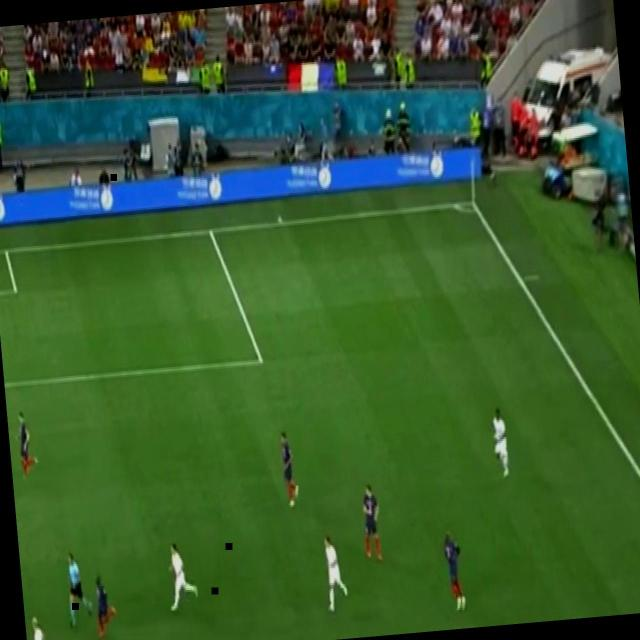player-white: (164, 540, 200, 612), (62, 548, 94, 628), (321, 534, 350, 614), (441, 529, 467, 613), (360, 482, 384, 564), (12, 410, 40, 480), (92, 570, 120, 640), (278, 429, 300, 509), (491, 407, 512, 479), (27, 614, 61, 640)
